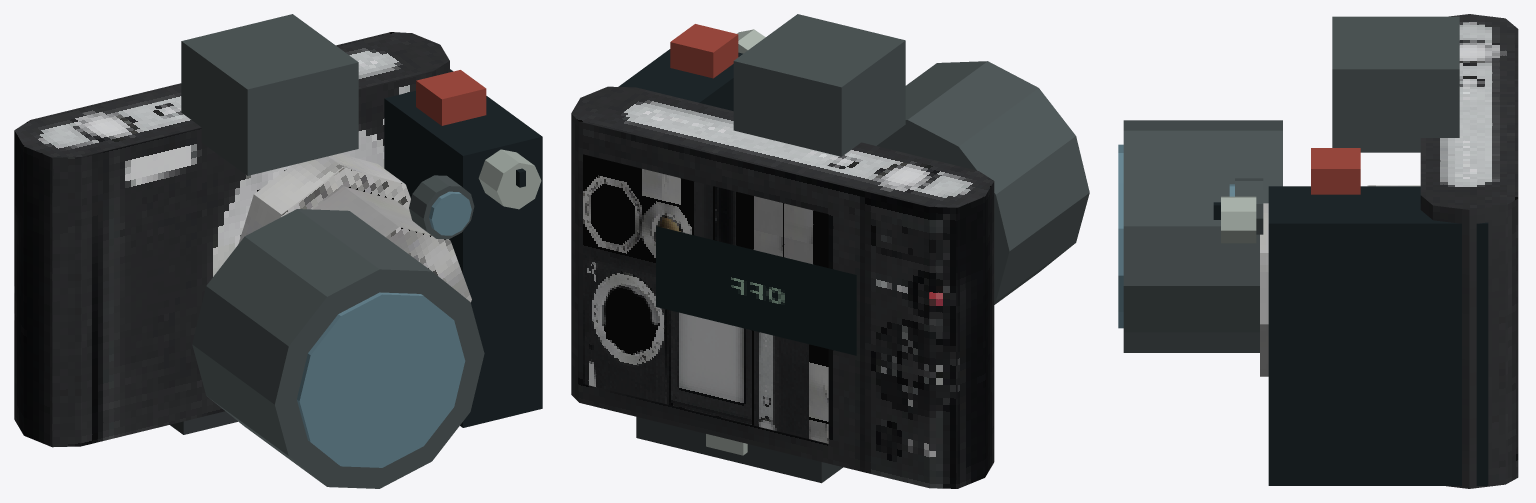
File: blender_photo_camera_2.glb
3 views of the same model, side by side, from view 1: azimuth 30°, elevation 25°; view 2: azimuth 150°, elevation 25°; view 3: azimuth 270°, elevation 25° (orthographic). The views are drawn at different scales.
Visible parts, largest first — view 1: blender_photo_camera_2; view 2: blender_photo_camera_2; view 3: blender_photo_camera_2.
Part boxes in pixels (<box>): blender_photo_camera_2: <box>14,14,542,488</box>; blender_photo_camera_2: <box>571,14,1089,488</box>; blender_photo_camera_2: <box>1118,14,1518,488</box>.
Bounding box in the file's own units: 0.131 × 0.1175 × 0.114.
1 material, 1 textured.
